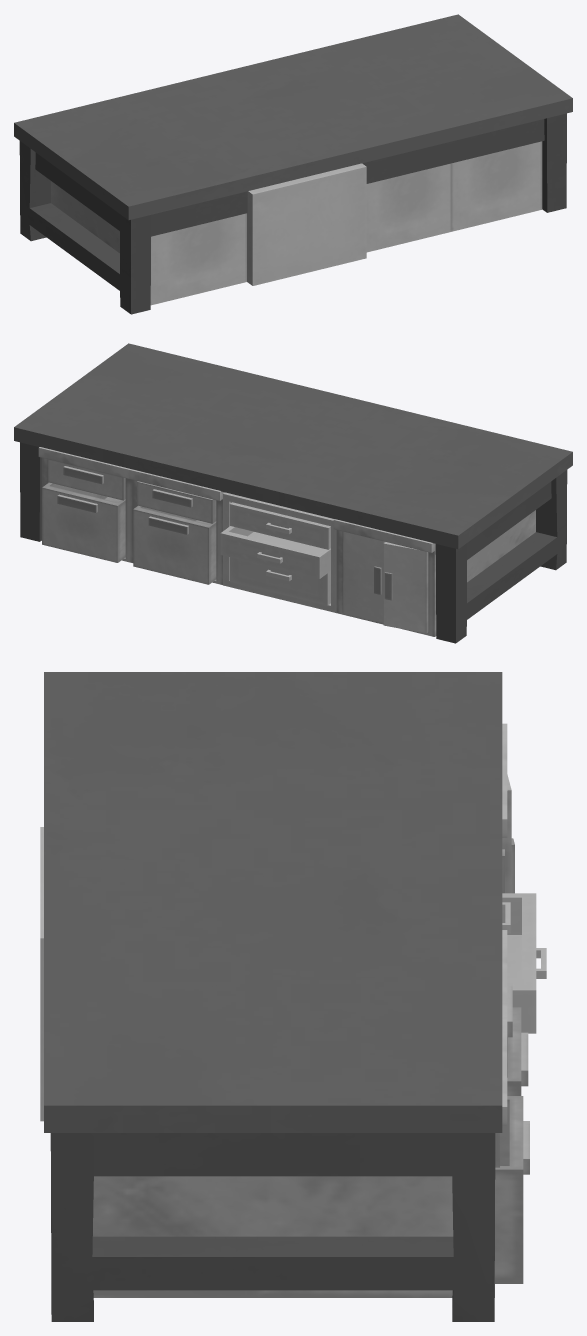
The model's file is Pfb_Table_02_4_JLAB_Temp__2.fbx.
The picture shows the model from 3 angles, top to bottom: view 1: azimuth 30°, elevation 25°; view 2: azimuth 150°, elevation 25°; view 3: azimuth 270°, elevation 25°; orthographic projection. The views are drawn at different scales.
Parts seen in each view (by area): view 1: Mat_Table_02White, Kitchen, Kitchen 4; view 2: Mat_Table_02White, Kitchen, Kitchen 4; view 3: Mat_Table_02White, Kitchen, Kitchen 4.
Part boxes in pixels (box(x1,y1,x2,y2)): Mat_Table_02White: box(14, 14, 572, 314); Kitchen: box(51, 141, 542, 305); Kitchen 4: box(247, 163, 366, 285); Mat_Table_02White: box(14, 343, 572, 643); Kitchen: box(38, 447, 535, 636); Kitchen 4: box(220, 492, 336, 612); Mat_Table_02White: box(44, 672, 502, 1321); Kitchen: box(93, 723, 529, 1297); Kitchen 4: box(40, 827, 546, 1121).
Size of the model in its own units: 2.78 by 0.6588 by 1.37.
3 materials, 3 textured.
